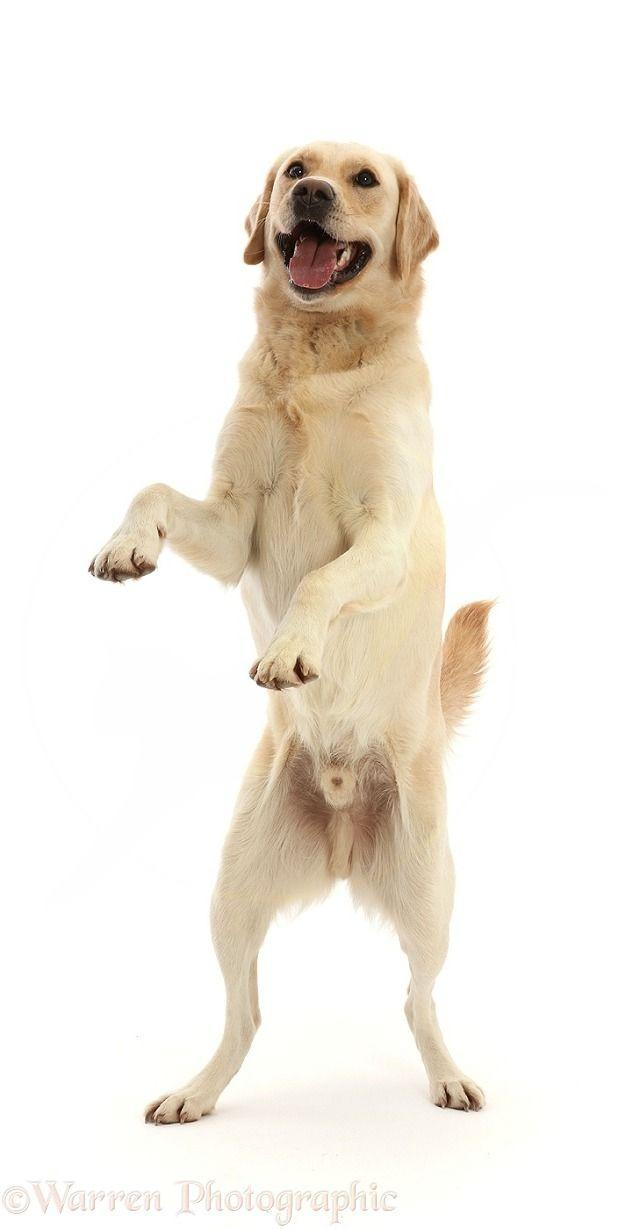adult_dog: (87, 139, 498, 1128)
